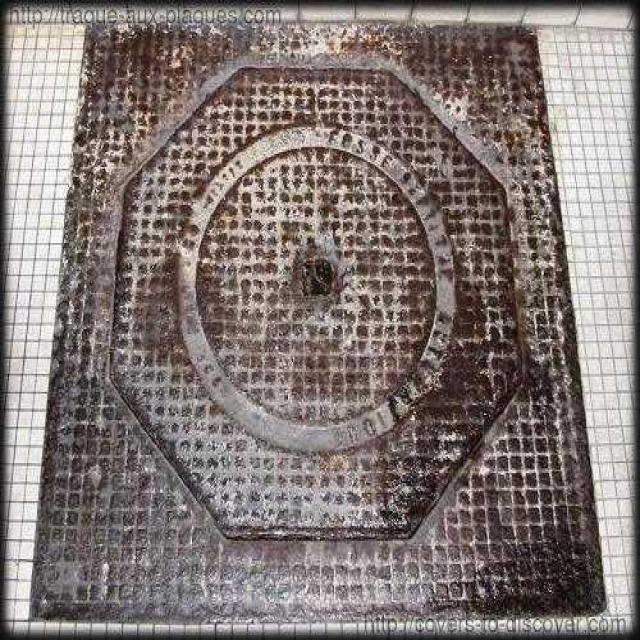manhole: (34, 23, 605, 621)
